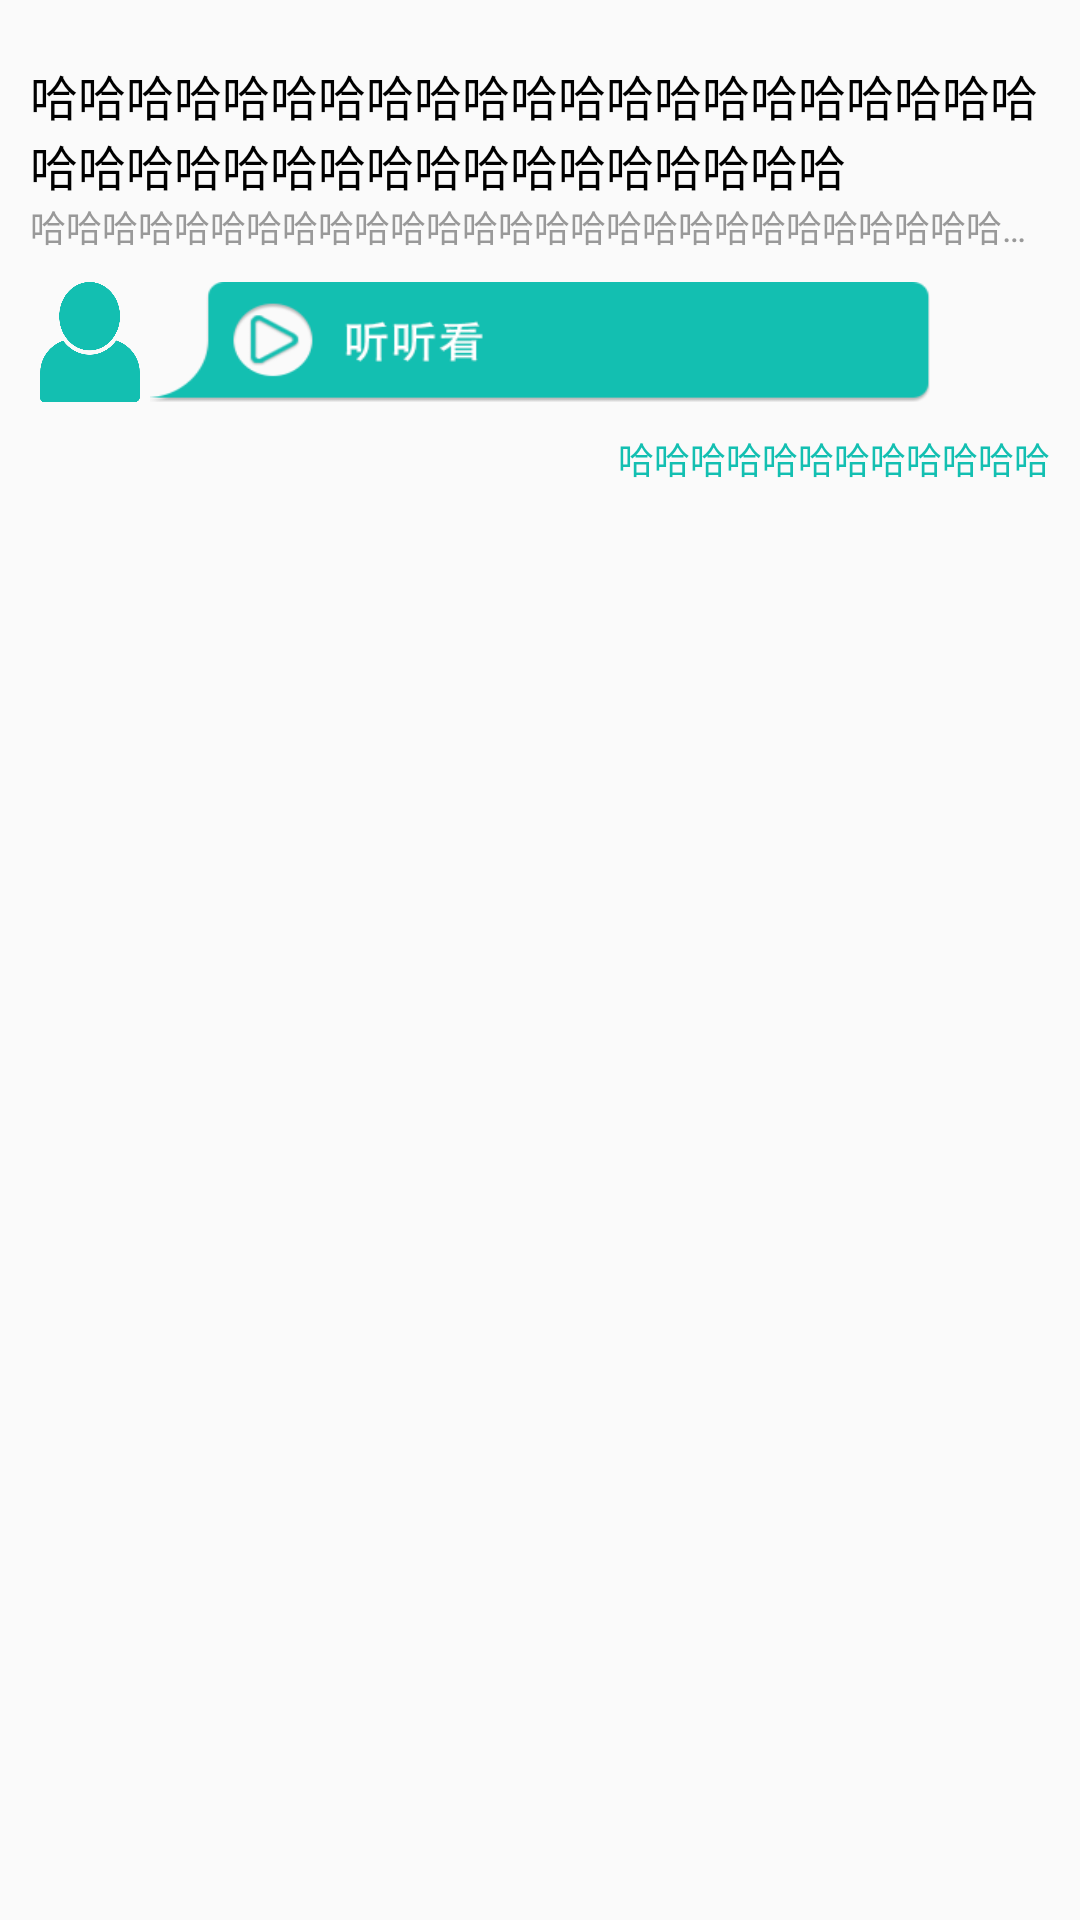

Named icons in this screenshot (1080×1920) and their bounding boxes, [x1=x1, y1=y1, x2=x2, y2=y2]:
user full: [x1=40, y1=282, x2=140, y2=402]
